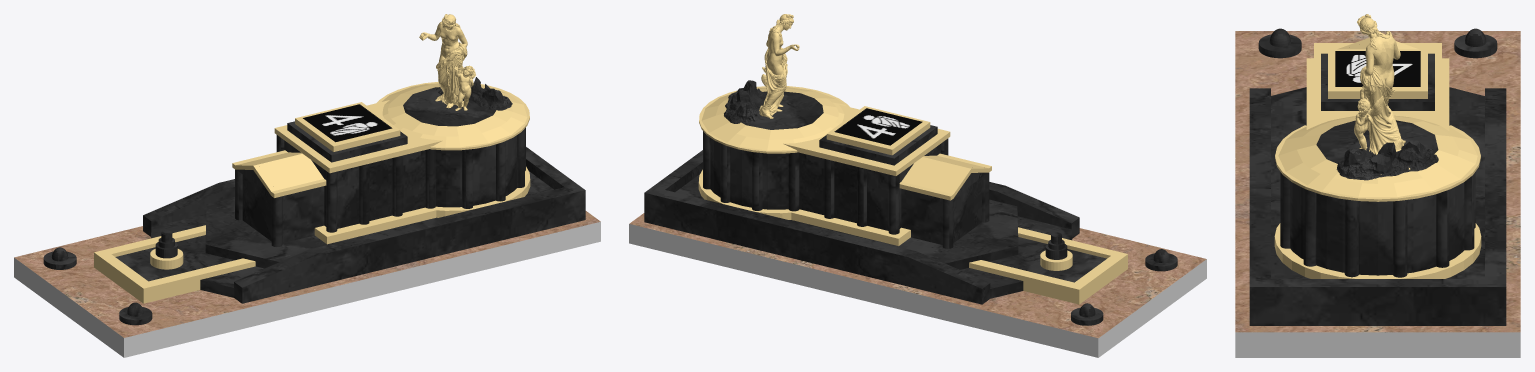
The model's file is buildingTemploVenus.glb.
3 renders of one model, left to right at view 1: azimuth 30°, elevation 25°; view 2: azimuth 150°, elevation 25°; view 3: azimuth 270°, elevation 25°, orthographic. The views are drawn at different scales.
Parts seen in each view (by area): view 1: TemploVenus; view 2: TemploVenus; view 3: TemploVenus.
Part boxes in pixels (<box>): TemploVenus: <box>14,14,600,357</box>; TemploVenus: <box>629,14,1206,357</box>; TemploVenus: <box>1235,14,1520,357</box>.
Bounding box in the file's own units: 5 × 2.15 × 2.
Materials: 5 (3 with a texture image).
